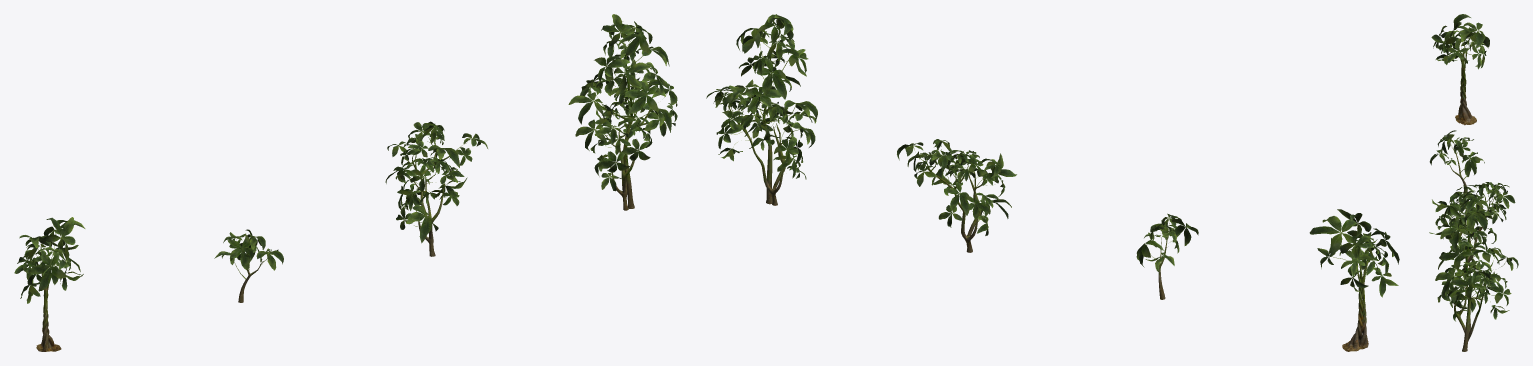
The model's file is pachira.glb.
3 views of the same model, side by side, from view 1: azimuth 30°, elevation 25°; view 2: azimuth 150°, elevation 25°; view 3: azimuth 270°, elevation 25° (orthographic). The views are drawn at different scales.
Parts seen in each view (by area): view 1: pachira_aquatica_01_leaves_a, pachira_aquatica_01_bark_a; view 2: pachira_aquatica_01_leaves_a, pachira_aquatica_01_bark_a; view 3: pachira_aquatica_01_leaves_a, pachira_aquatica_01_bark_a.
Part boxes in pixels (x1,y1,x2,y2): pachira_aquatica_01_leaves_a: [14, 14, 677, 303]; pachira_aquatica_01_bark_a: [36, 44, 652, 351]; pachira_aquatica_01_leaves_a: [706, 14, 1399, 297]; pachira_aquatica_01_bark_a: [728, 43, 1368, 351]; pachira_aquatica_01_leaves_a: [1429, 14, 1518, 321]; pachira_aquatica_01_bark_a: [1447, 48, 1497, 351].
Size of the model in its own units: 6.87 by 1.9 by 0.997.
2 materials, 2 textured.
